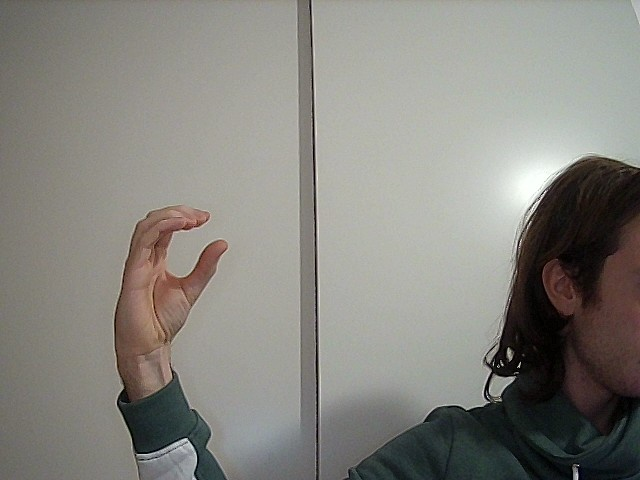c: (89, 192, 256, 350)
